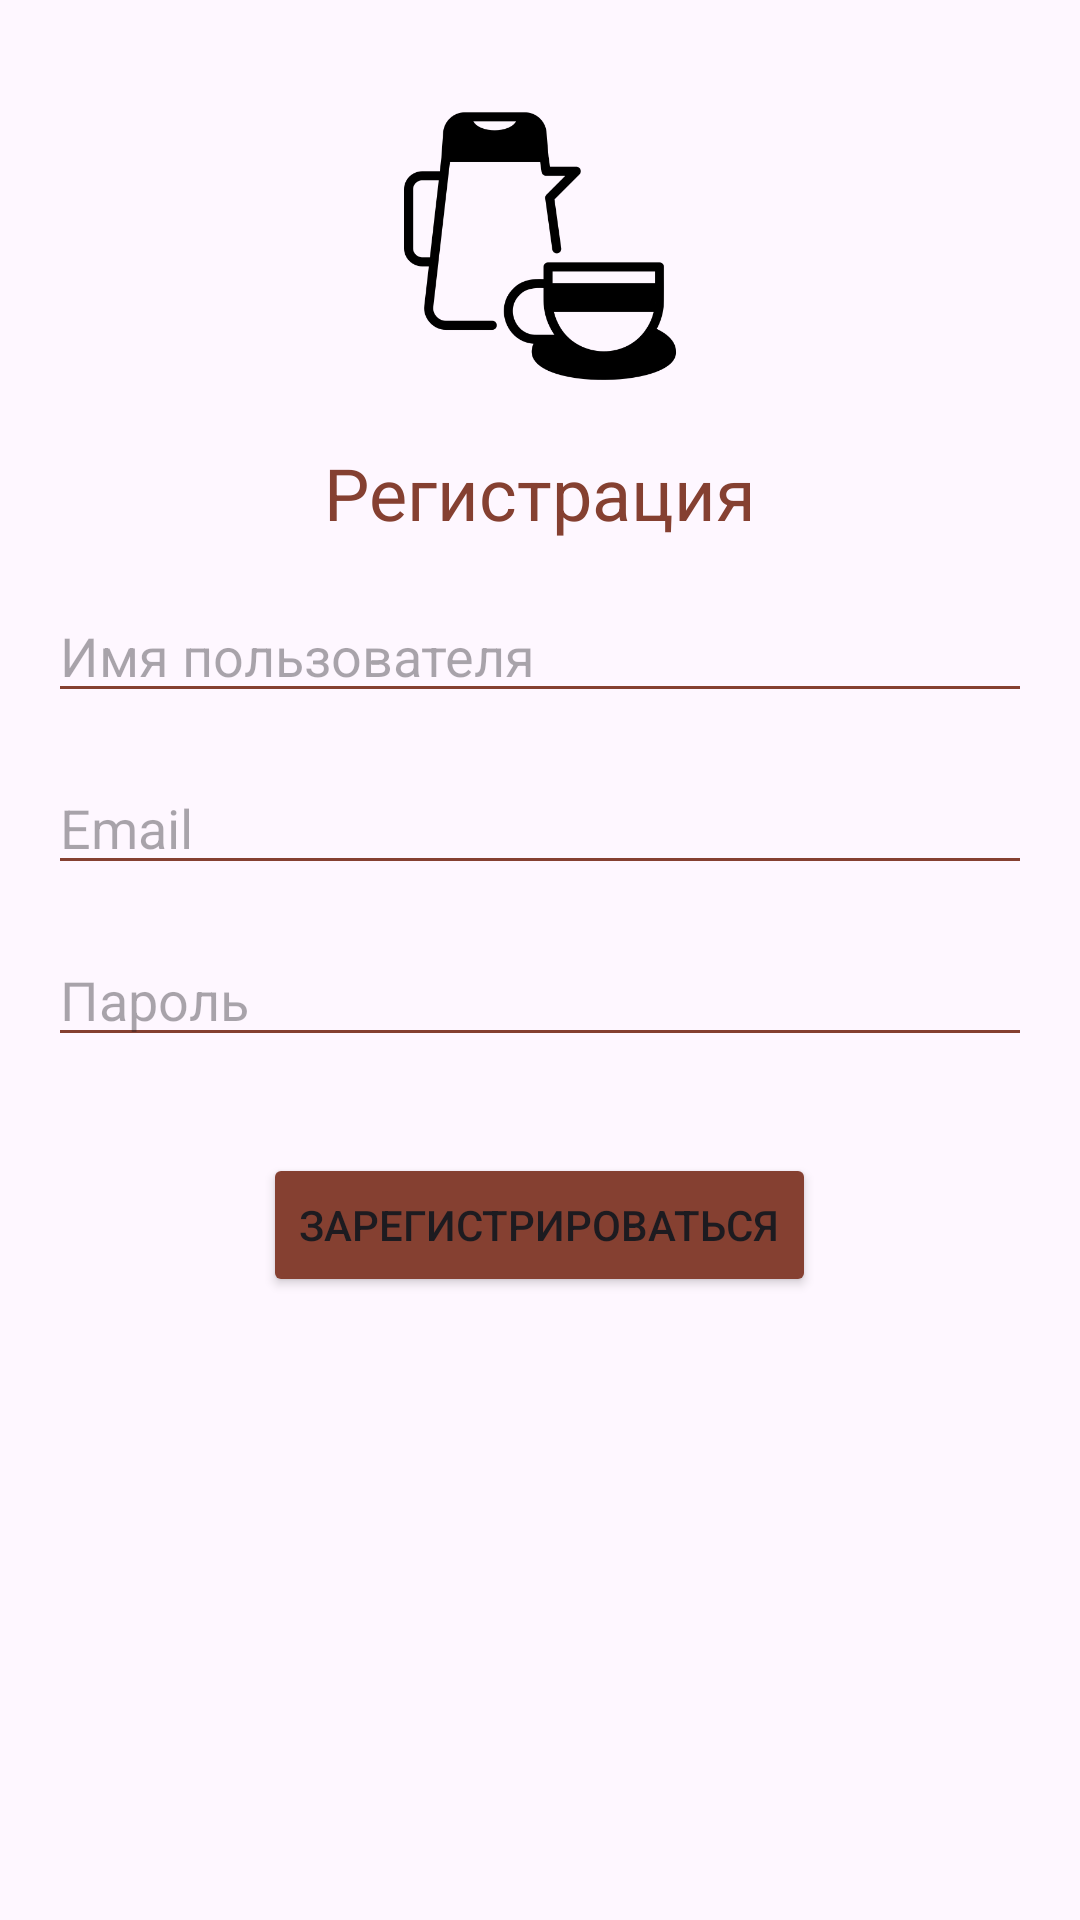

Named icons in this screenshot (1080 x 1920) and their centers, (x,y):
drink: (540,246)
